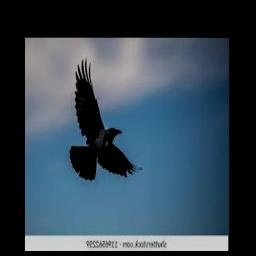Crow: (70, 58, 143, 180)
